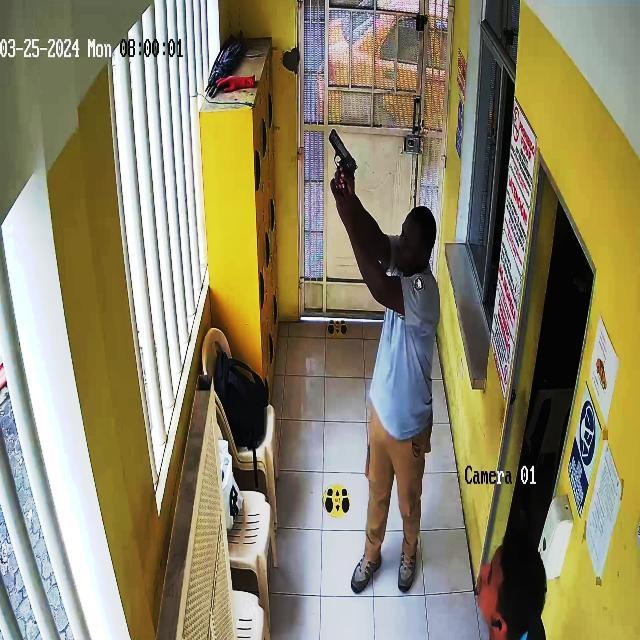Gun: (318, 116, 380, 196)
